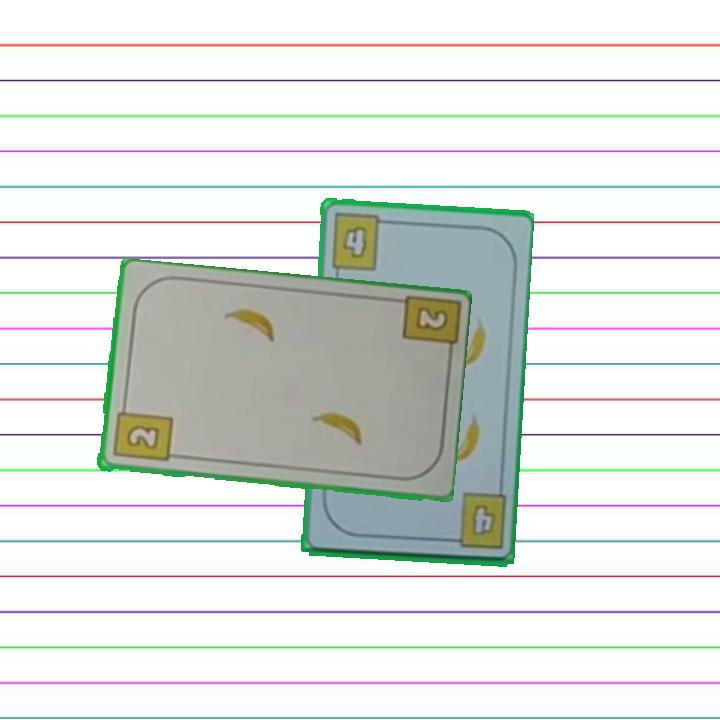2b: (109, 399, 174, 465), (411, 303, 451, 334)
4b: (441, 490, 508, 552), (327, 210, 392, 273)
